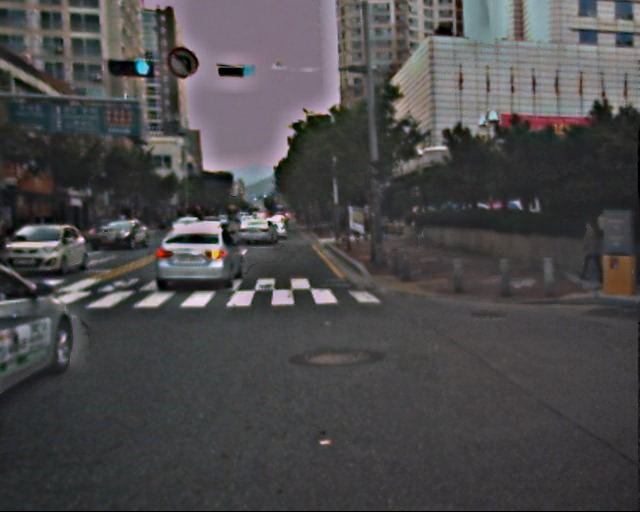person: (578, 222, 603, 284)
